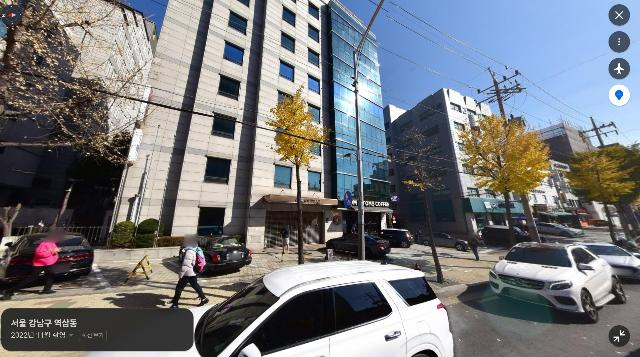ginkgo: (454, 110, 554, 246), (263, 81, 332, 265), (389, 126, 445, 283), (560, 143, 640, 246)
other: (0, 0, 149, 239)
